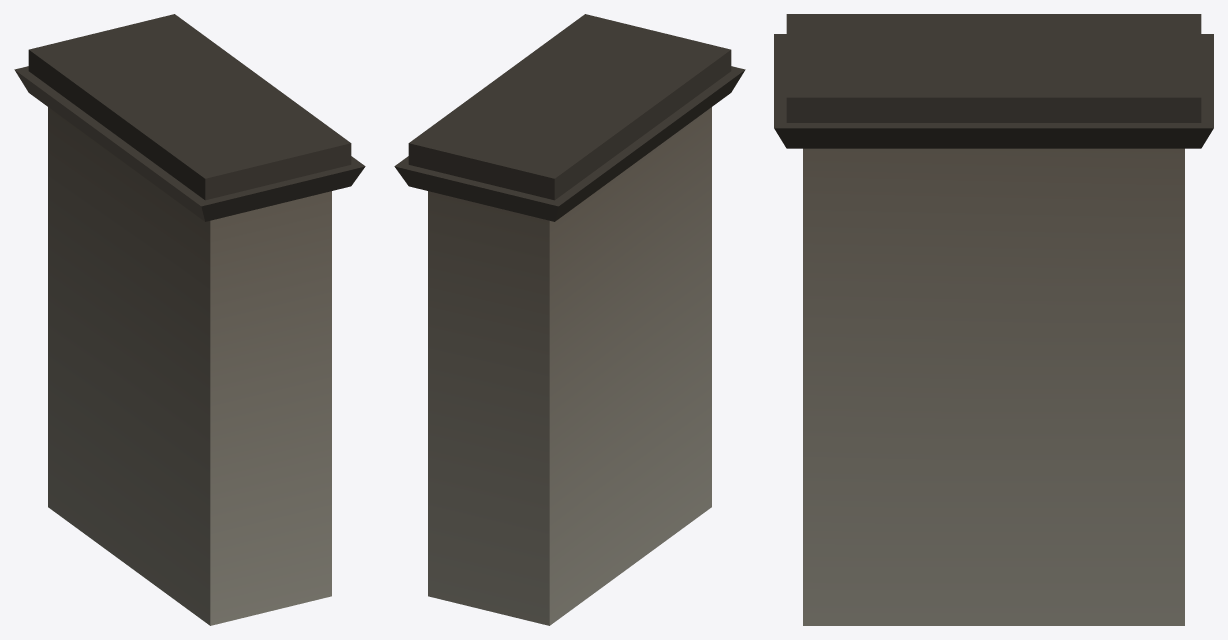
The model's file is Chimney_A.fbx.
3 renders of one model, left to right at view 1: azimuth 30°, elevation 25°; view 2: azimuth 150°, elevation 25°; view 3: azimuth 270°, elevation 25°, orthographic. The views are drawn at different scales.
Parts seen in each view (by area): view 1: Chimney_A; view 2: Chimney_A; view 3: Chimney_A.
Boxes of the visible parts, box(x1,y1,x2,y2) form: Chimney_A: box(14, 14, 365, 625); Chimney_A: box(394, 14, 745, 625); Chimney_A: box(774, 14, 1213, 625).
Size of the model in its own units: 108 by 286 by 213.
